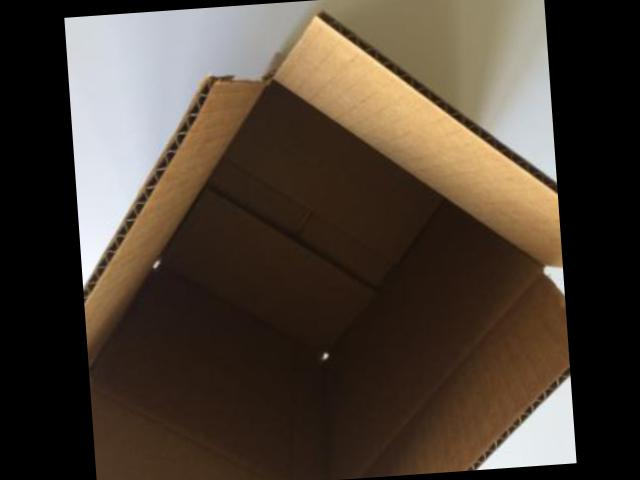cardboard paper: (83, 17, 570, 480)
